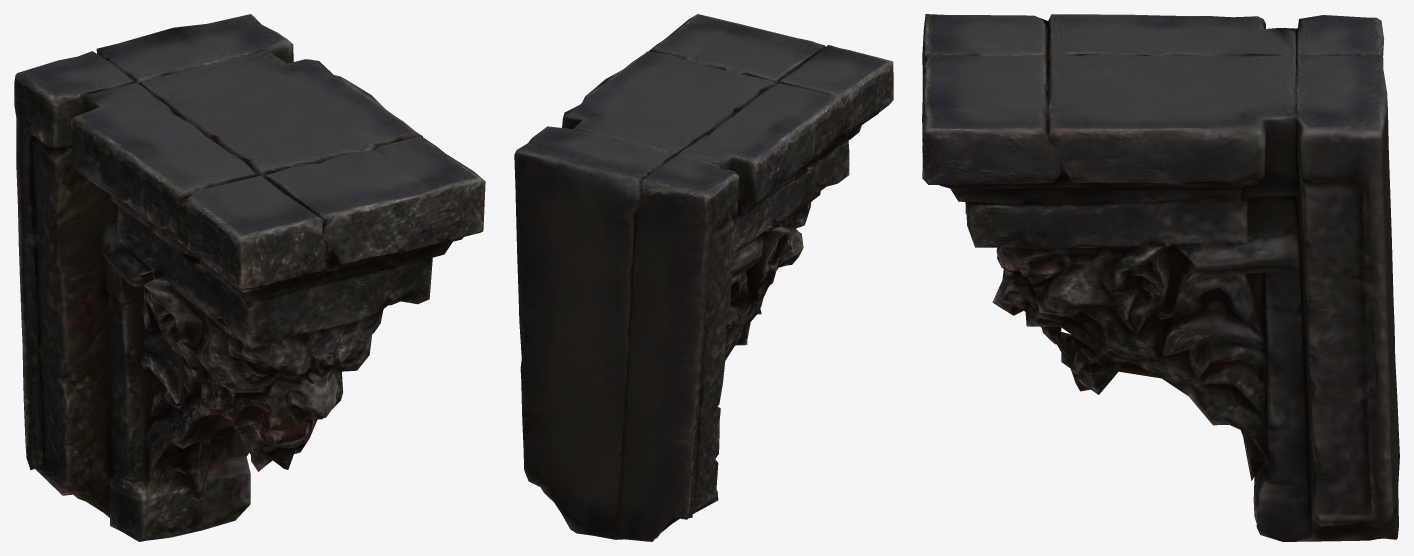
Rendered from corbel.glb.
3 views of the same model, side by side, from view 1: azimuth 30°, elevation 25°; view 2: azimuth 150°, elevation 25°; view 3: azimuth 270°, elevation 25° (orthographic). The views are drawn at different scales.
Parts seen in each view (by area): view 1: corbel; view 2: corbel; view 3: corbel.
Part boxes in pixels (x1,y1,x2,y2): corbel: (14, 14, 485, 541); corbel: (514, 14, 893, 541); corbel: (922, 14, 1399, 541).
Size of the model in its own units: 0.5099 by 0.9 by 0.8667.
Materials: 1 (1 with a texture image).
